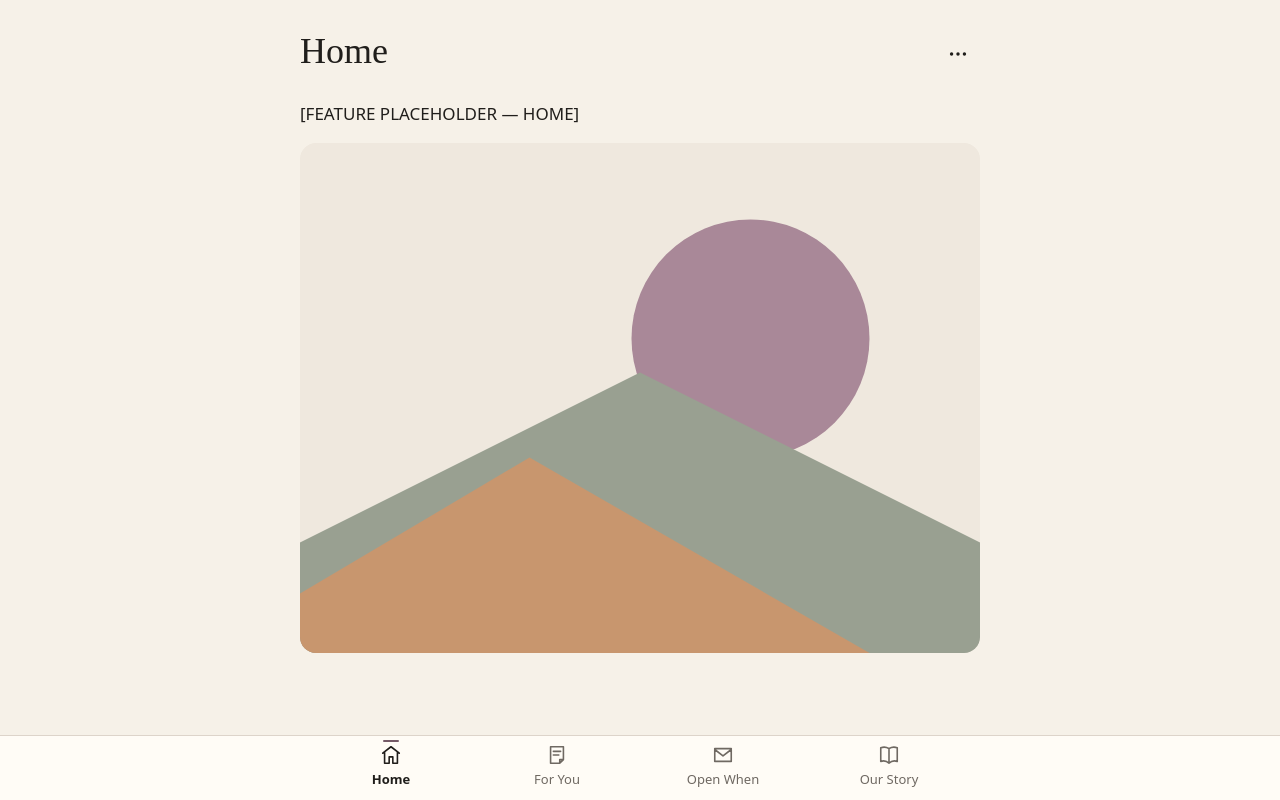
Scenario: hides install actions but retains replay in standalone state
The width and height of the screenshot is (1280, 800).
What coordinates should you click on to do the following:
click the link "Our Story"
I would click on:
 (889, 766)
Its box is [860,744,918,788].
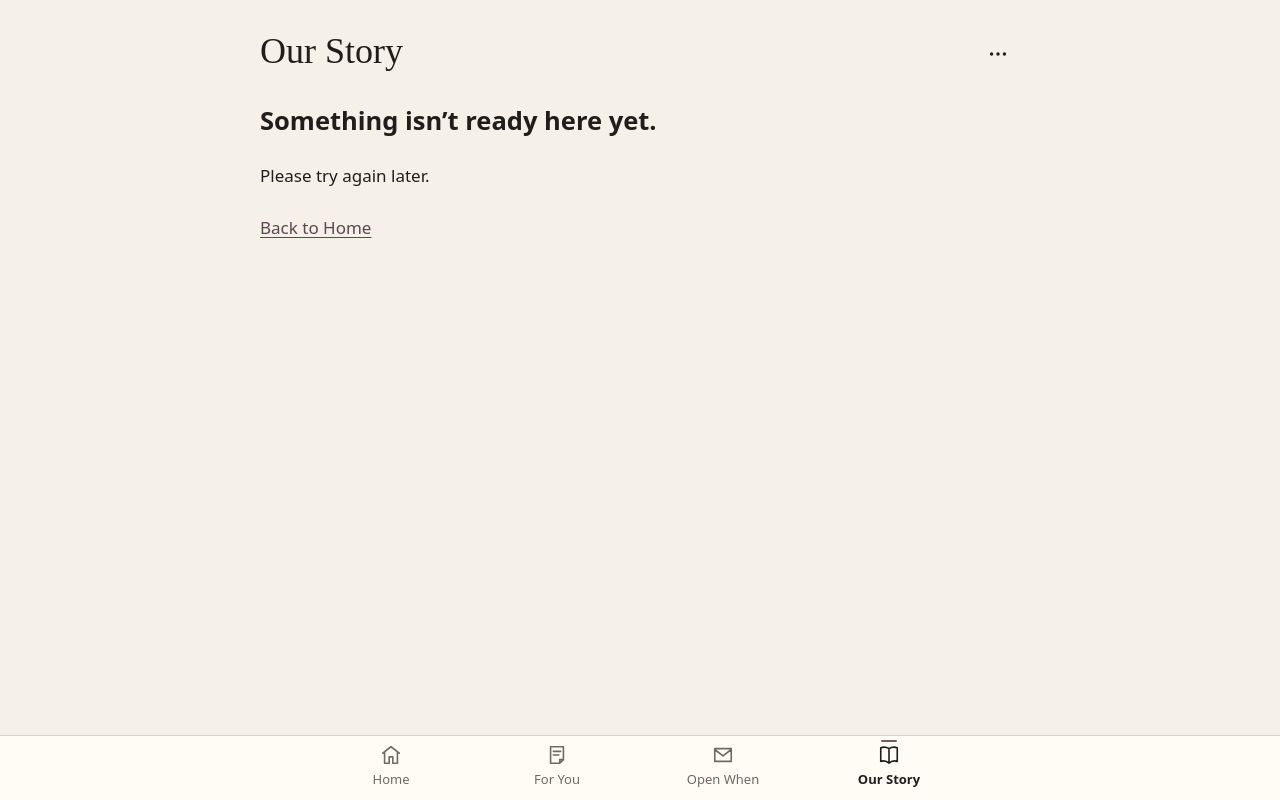
What coordinates should you click on to do the following:
click the link to "/"
I would click on:
 (391, 766)
Its box is [372,744,410,788].
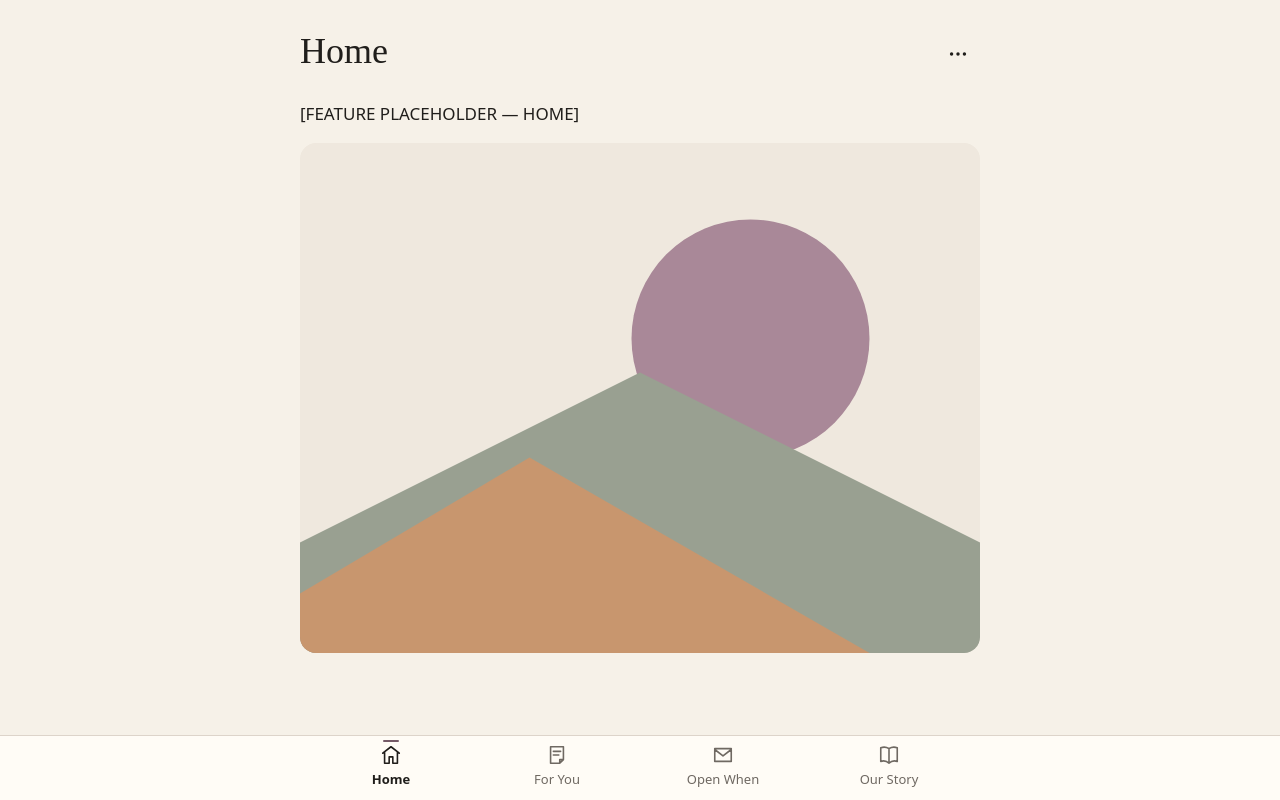
What coordinates should you click on to do the following:
click the button named "More"
I would click on:
 (958, 54)
Its box is [936,32,980,76].
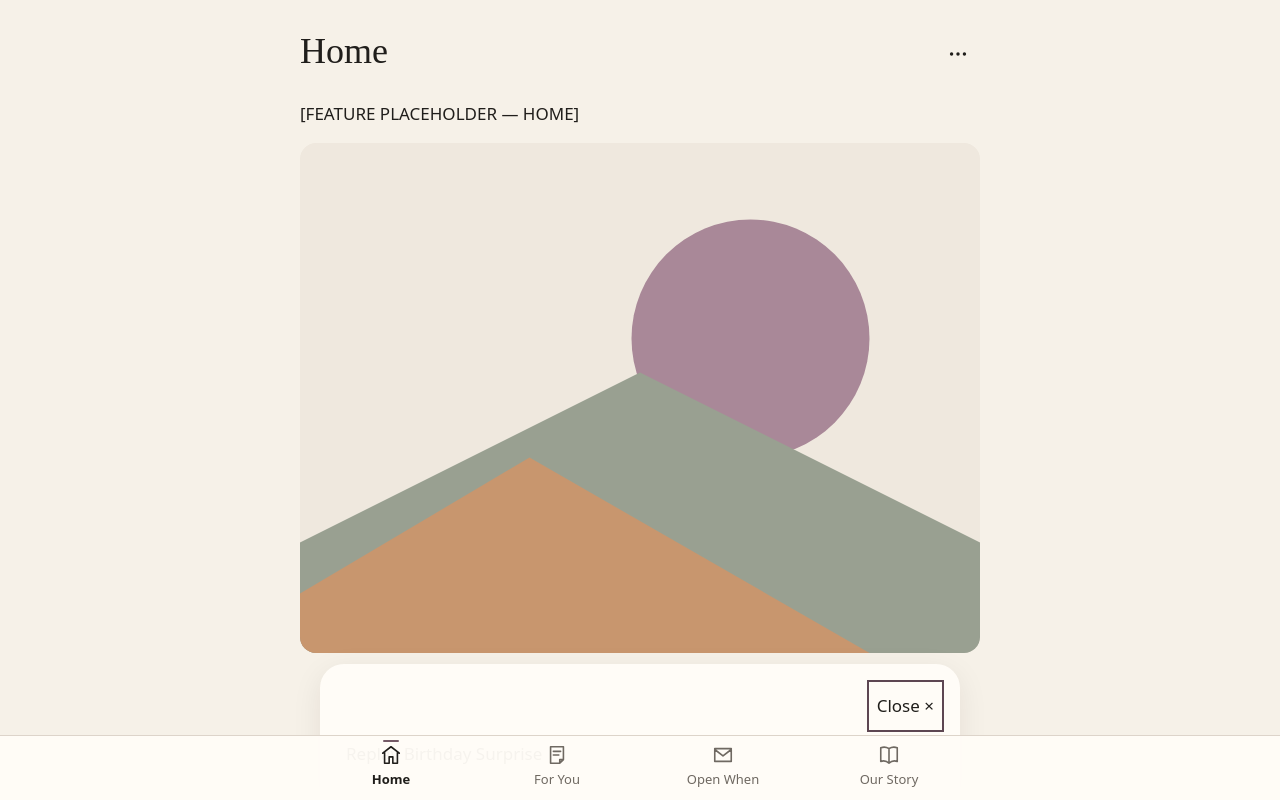
Expected: the button "Replay Birthday Surprise" is shown, [340,728,940,780]
